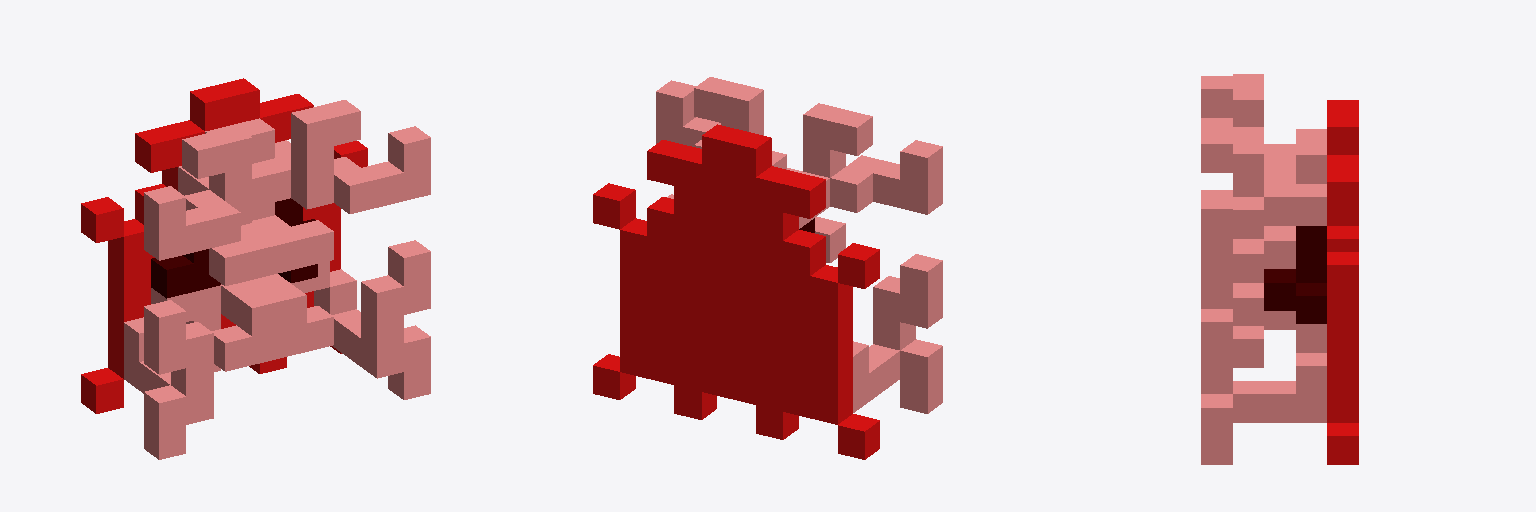
The picture shows the model from 3 angles: view 1: azimuth 30°, elevation 25°; view 2: azimuth 150°, elevation 25°; view 3: azimuth 270°, elevation 25°; orthographic projection.
Visible parts, largest first — view 1: object 1; view 2: object 1; view 3: object 1.
Part boxes in pixels (bbox=[...]): object 1: bbox=[81, 78, 430, 459]; object 1: bbox=[593, 77, 942, 459]; object 1: bbox=[1201, 74, 1358, 464].
Bounding box in the file's own units: 1 × 1 × 0.5.
1 materials, 1 textured.